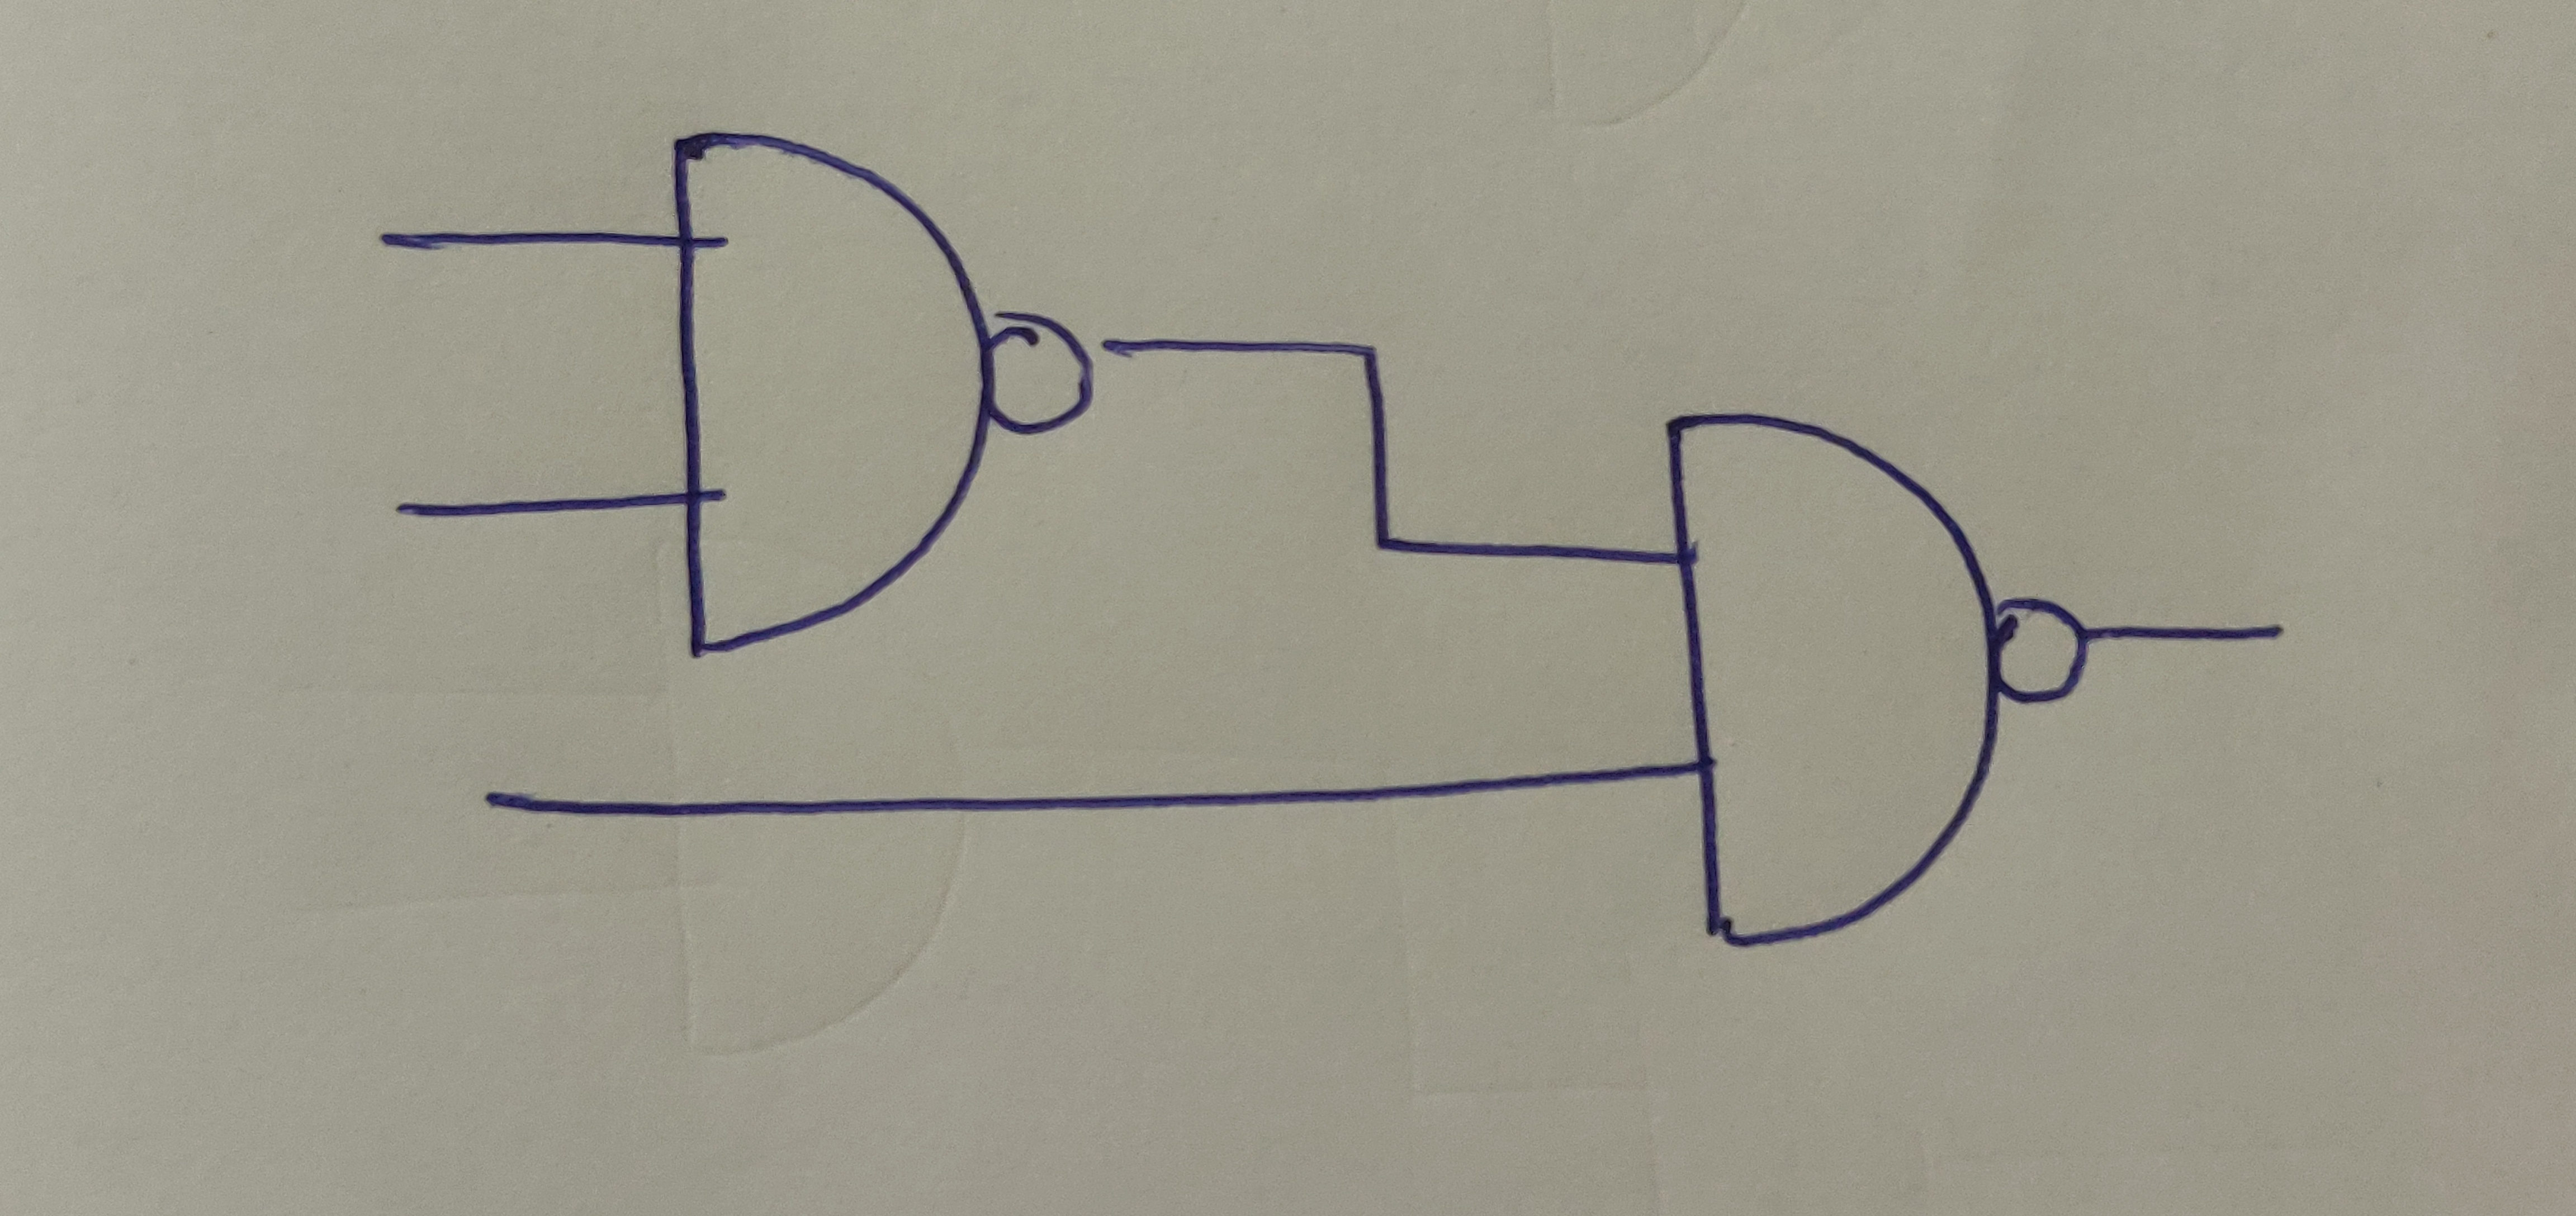and: (1666, 408, 2004, 948), (662, 125, 984, 646)
not: (984, 314, 1109, 435), (1991, 596, 2095, 707)
